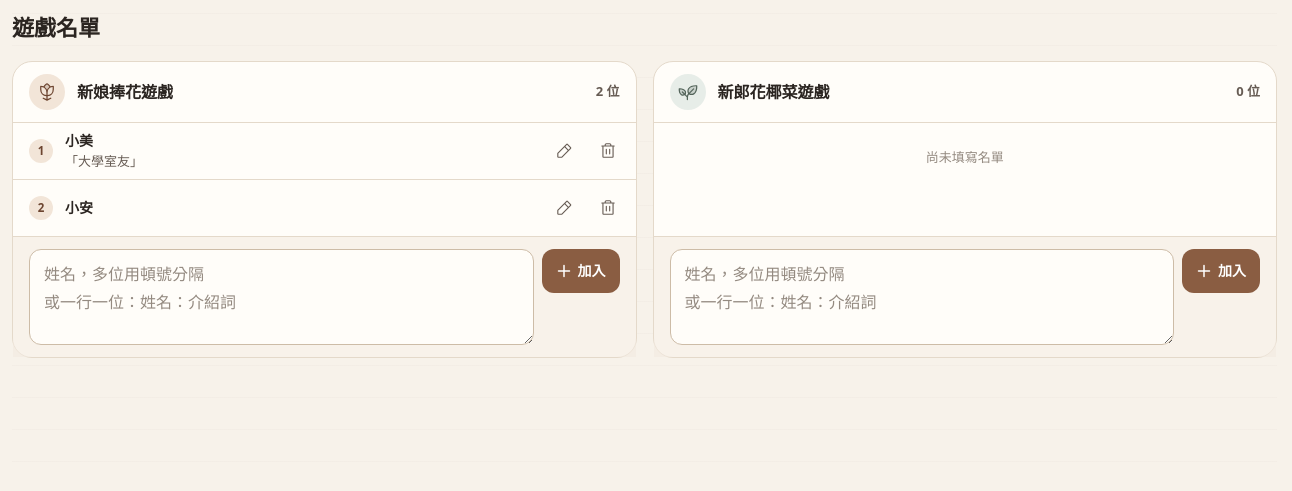
Test: WeddingGameParticipantLists › switches a row into inline edit and back
Click the button named "編輯 小美" at (564, 151), box [542,129,586,173]
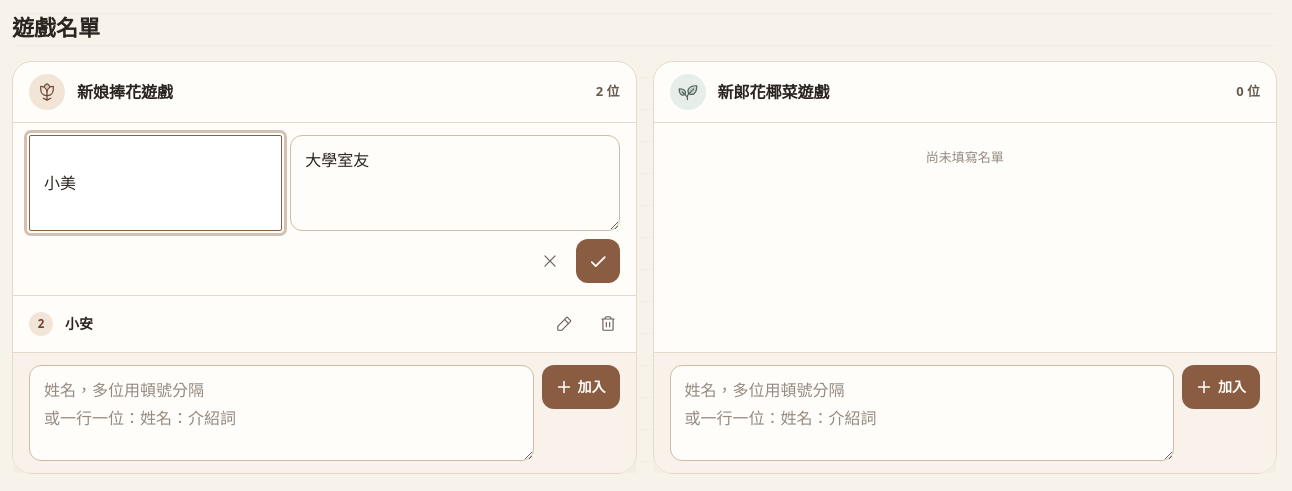
Now the field named "姓名" holds "小美", box [29,135,282,231]
Now the text box named "介紹詞" holds "大學室友", box [290,135,620,231]
Click the button named "取消編輯" at (550, 261), box [528,239,572,283]
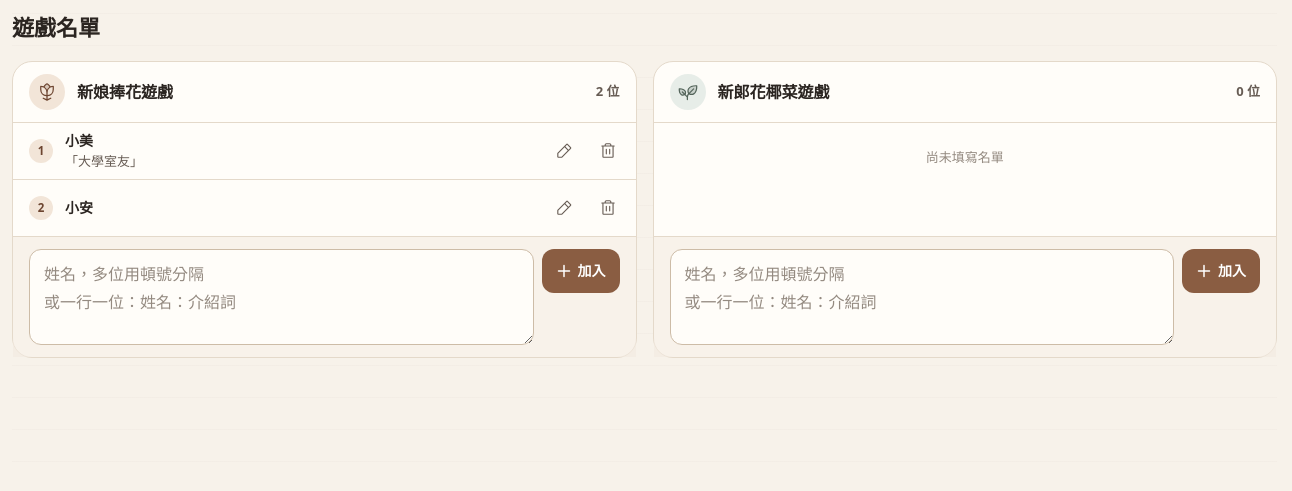
Now the button named "編輯 小美" is shown, box [542,129,586,173]
